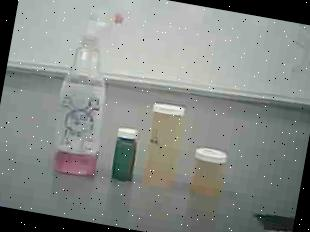Bottle A: (135, 93, 195, 199)
Bottle B: (178, 136, 243, 208)
Bottle C: (104, 120, 146, 190)
hazard: (40, 0, 130, 182)
